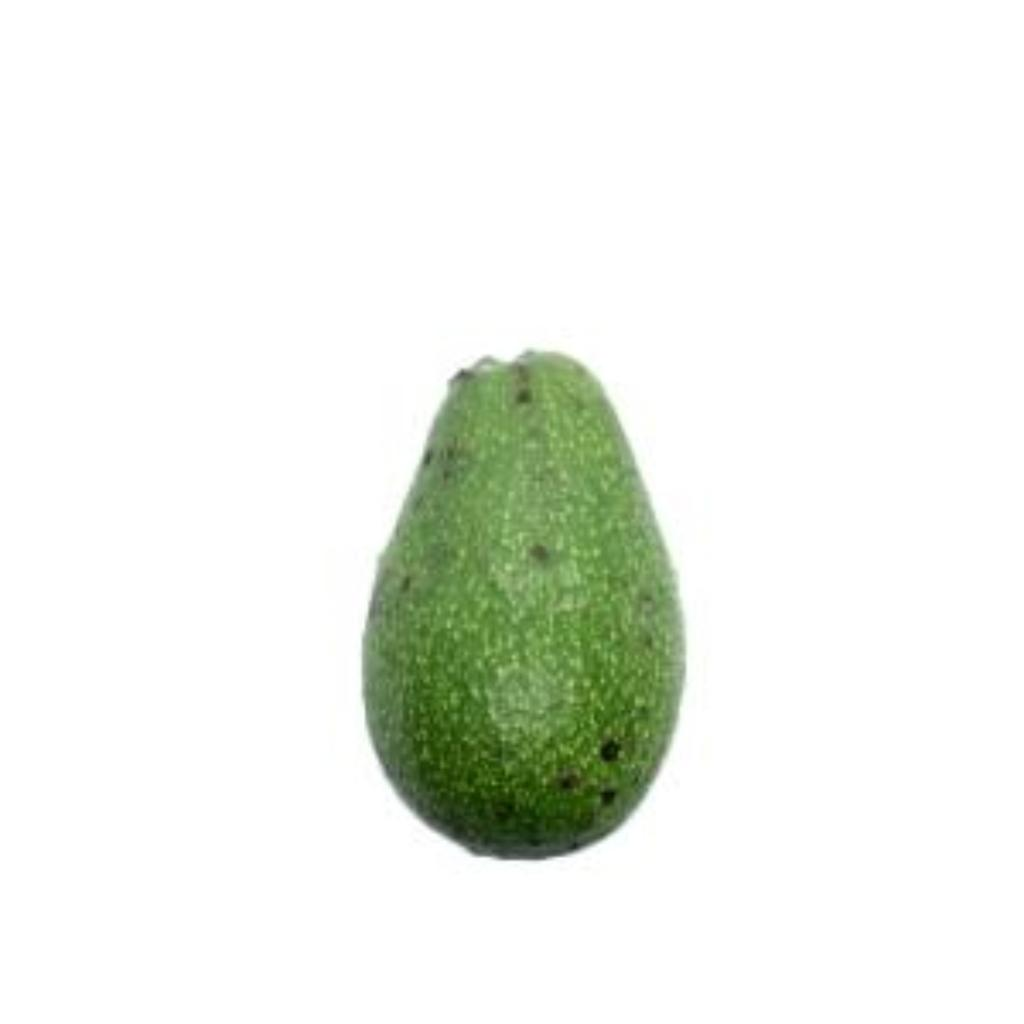cercospora: (339, 335, 703, 867)
